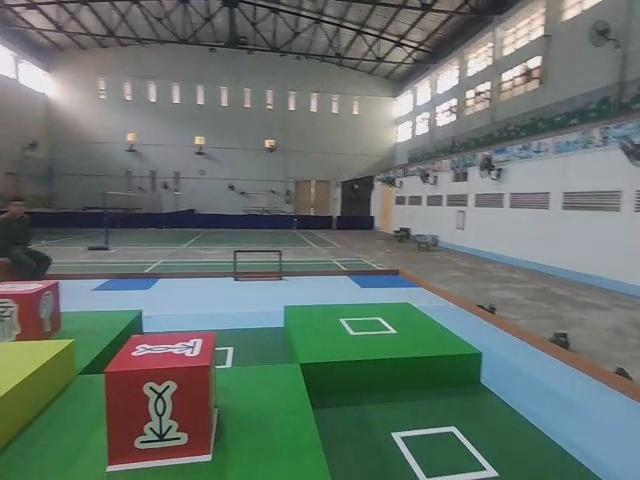R2 Fake: (0, 277, 64, 346)
R2 Real: (100, 328, 218, 469)
